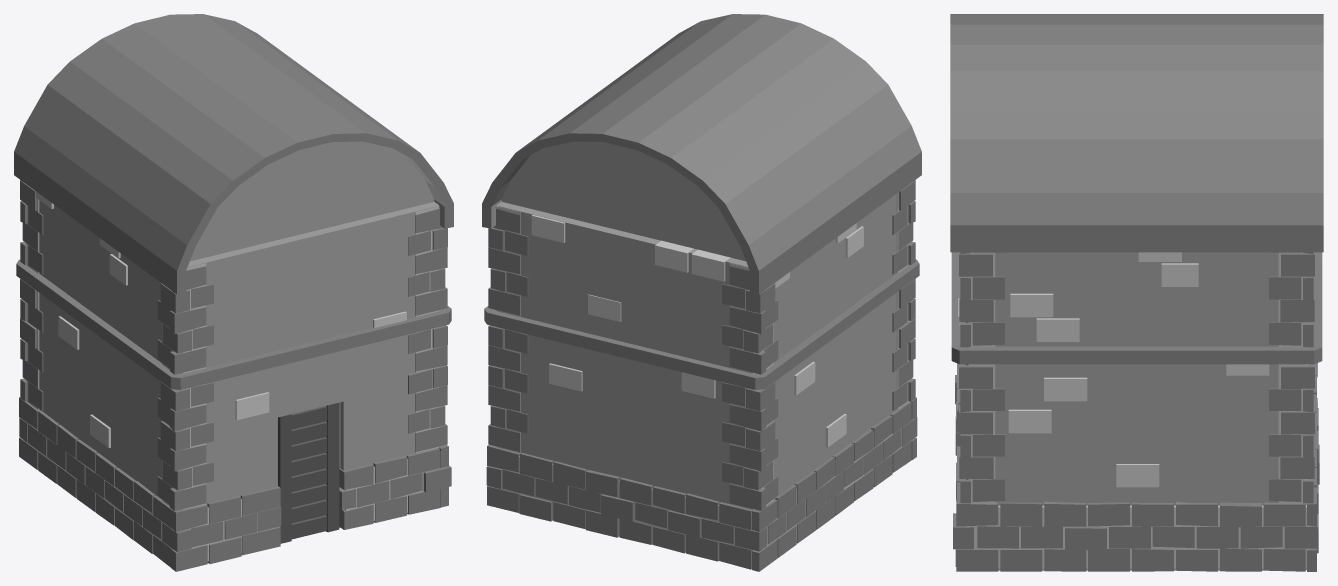
Rendered from qtb_2story_roundroof.fbx.
The picture shows the model from 3 angles, left to right: view 1: azimuth 30°, elevation 25°; view 2: azimuth 150°, elevation 25°; view 3: azimuth 270°, elevation 25°; orthographic projection. The views are drawn at different scales.
Parts seen in each view (by area): view 1: qtb_2story_roundroof_LOD0; view 2: qtb_2story_roundroof_LOD0; view 3: qtb_2story_roundroof_LOD0.
Boxes of the visible parts, box(x1,y1,x2,y2) form: qtb_2story_roundroof_LOD0: box(14, 14, 453, 571); qtb_2story_roundroof_LOD0: box(482, 14, 921, 571); qtb_2story_roundroof_LOD0: box(950, 14, 1323, 571).
Size of what is drawn, in the model's own units: 5.7 by 7.83 by 5.74.
